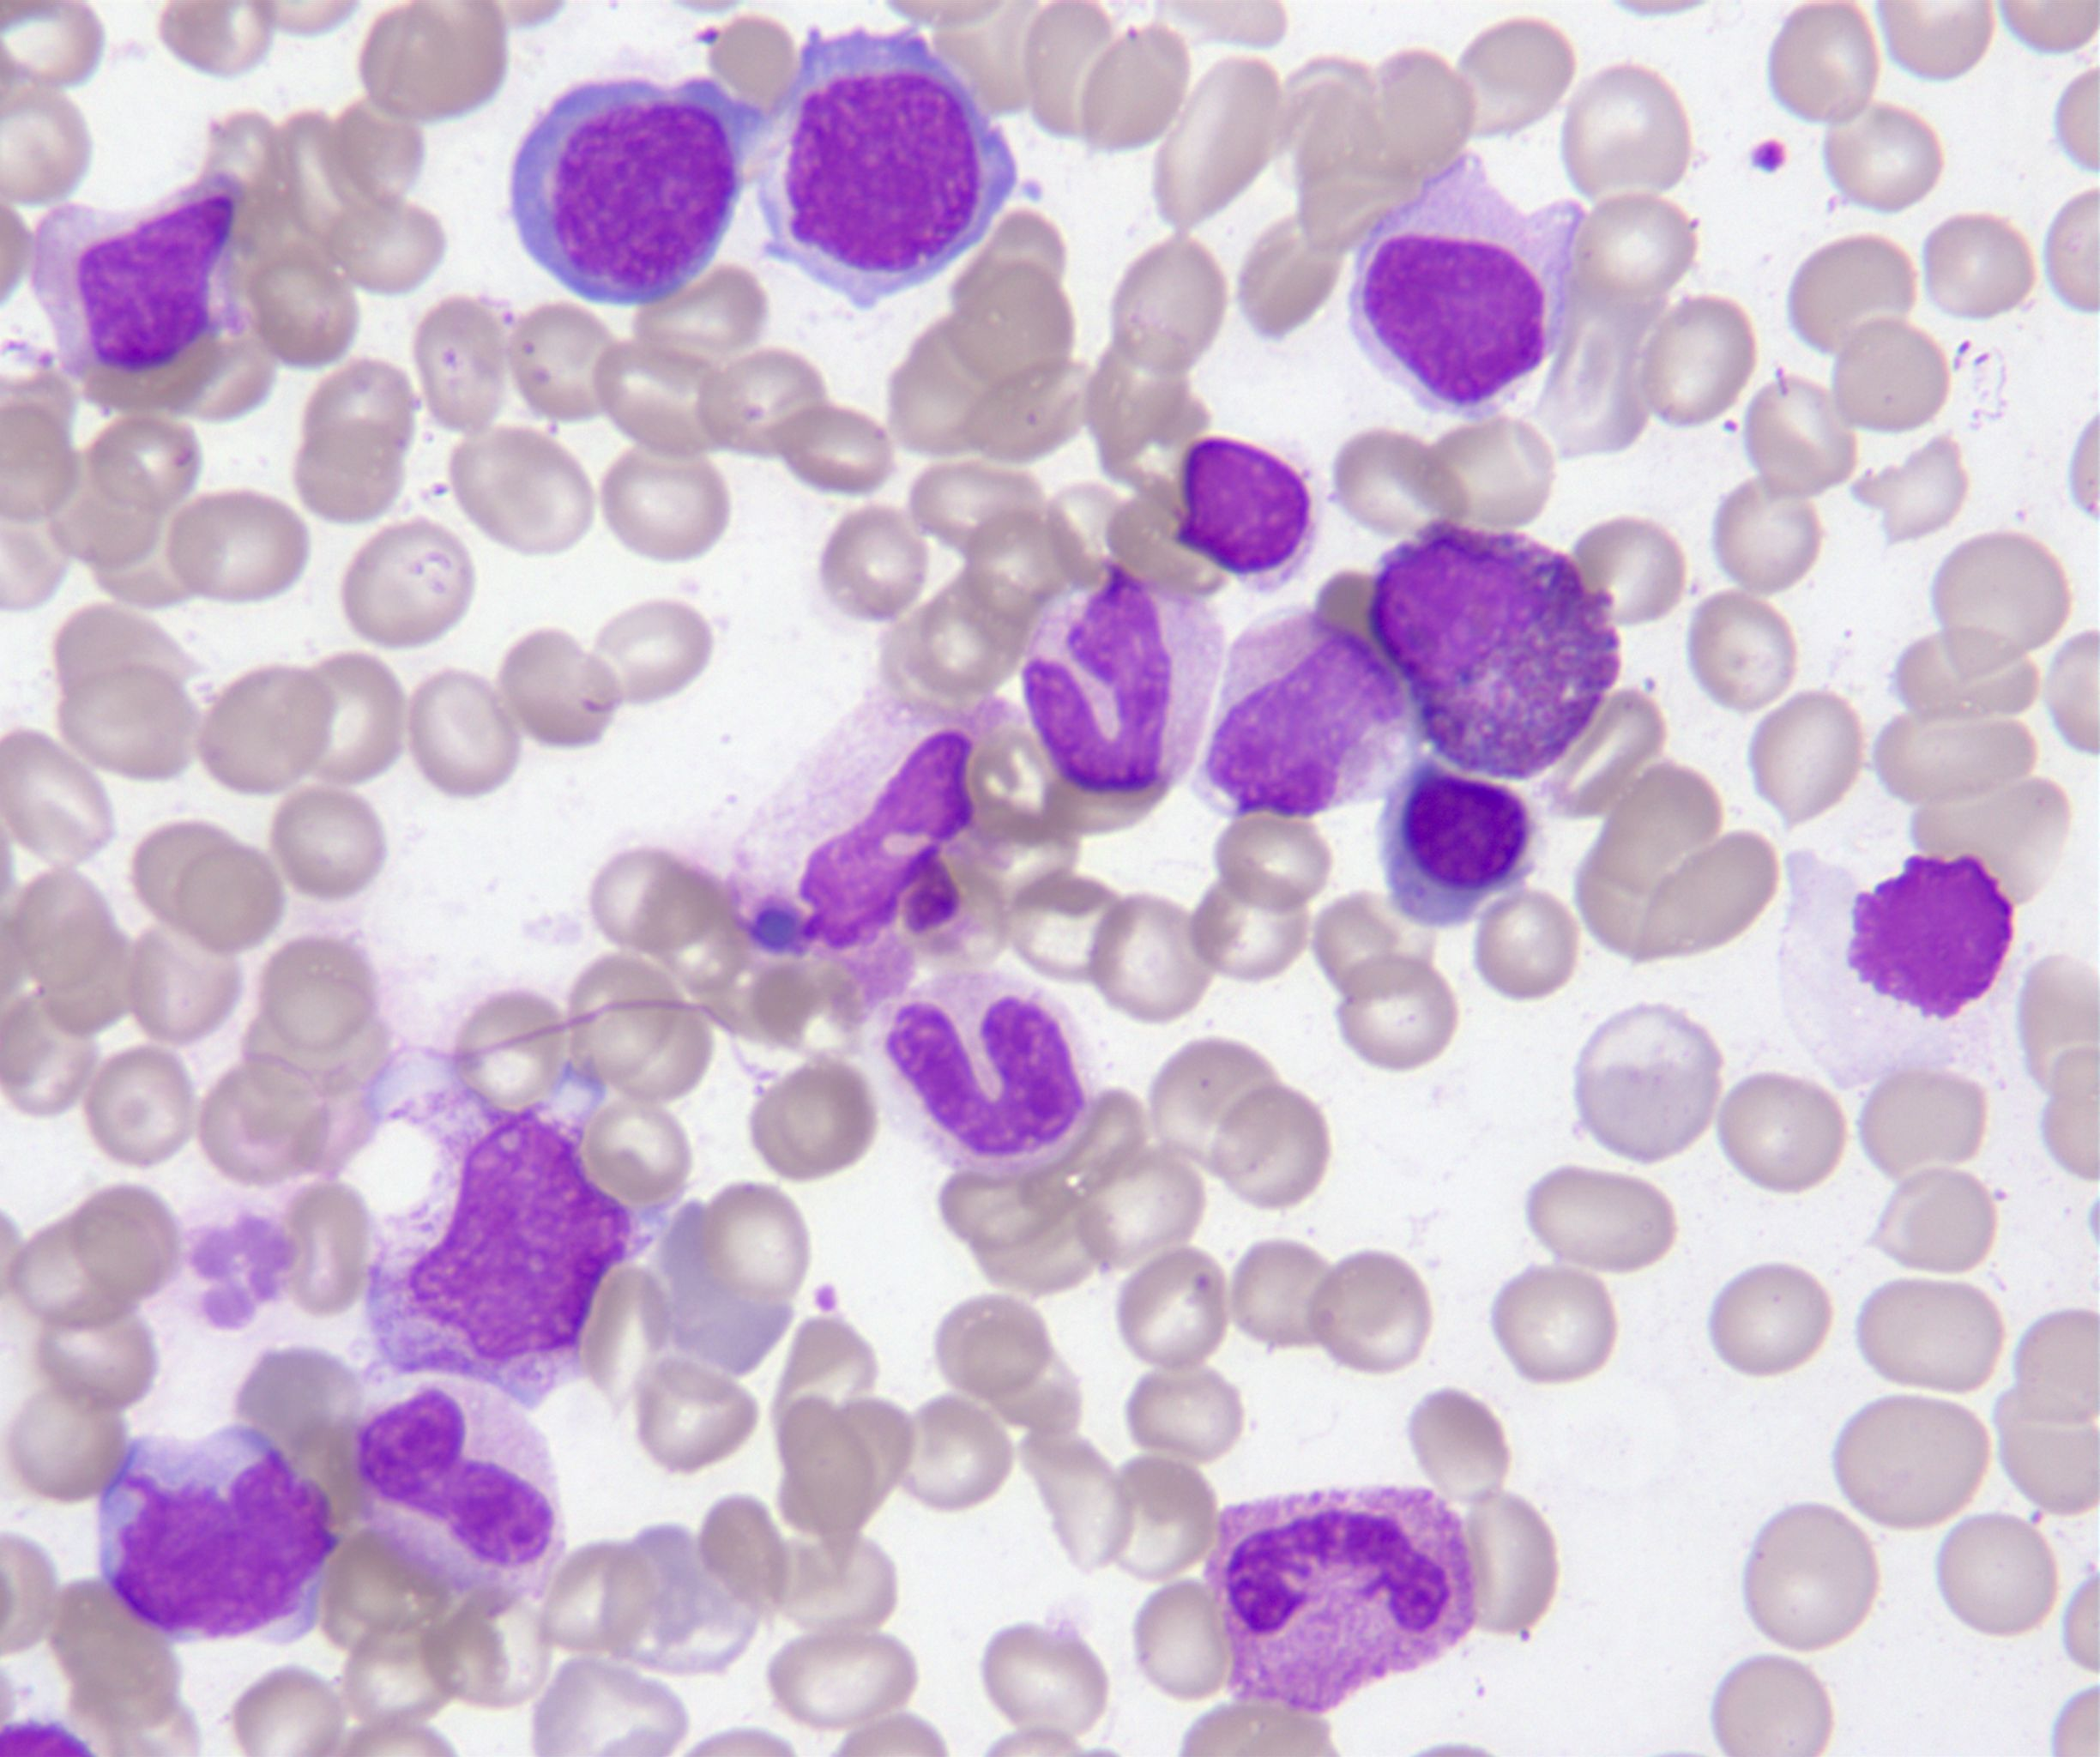22: (757, 19, 1024, 318), (499, 66, 769, 316), (1366, 755, 1551, 939)
32: (1338, 138, 1591, 441), (1167, 420, 1329, 605)
4: (1181, 597, 1435, 827)
42: (91, 1413, 347, 1652)
5: (719, 684, 1036, 1003), (1197, 1474, 1483, 1720), (340, 1364, 576, 1628), (860, 956, 1116, 1181), (1015, 558, 1230, 801)
E2: (1357, 504, 1629, 790)
x: (340, 1082, 666, 1410), (23, 166, 263, 426), (1826, 827, 2032, 1031)
